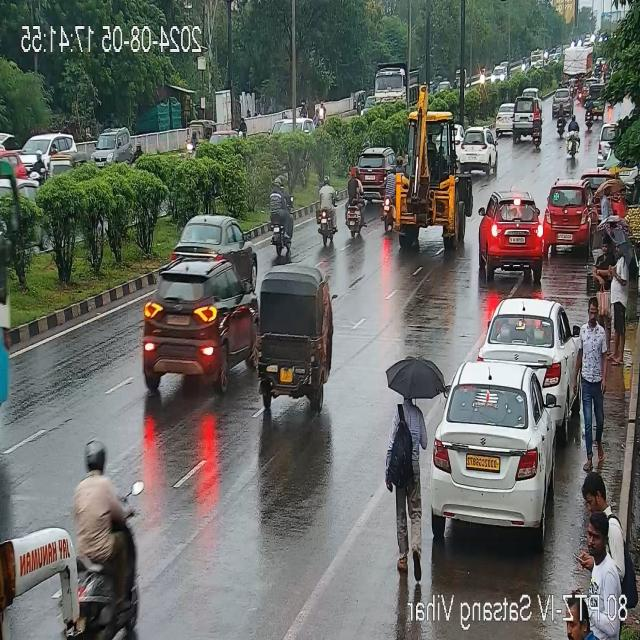2-wheelers: (74, 435, 142, 640), (312, 172, 360, 251), (262, 182, 298, 260), (382, 168, 397, 232), (568, 114, 580, 158), (32, 148, 46, 178), (532, 108, 542, 146), (586, 97, 594, 131), (238, 115, 248, 142), (131, 142, 143, 164), (558, 104, 566, 136), (187, 130, 198, 150), (356, 90, 363, 120), (313, 108, 321, 130), (578, 78, 584, 104), (319, 102, 326, 121), (300, 100, 308, 116), (597, 60, 603, 78), (570, 76, 574, 98), (522, 56, 526, 74), (452, 78, 458, 90)
auto: (252, 264, 336, 409), (188, 118, 218, 148)
bus: (0, 517, 106, 640)
car: (423, 360, 561, 534), (140, 264, 254, 392), (484, 297, 576, 397), (146, 220, 262, 298), (482, 194, 544, 278), (547, 179, 595, 247), (21, 132, 76, 190), (454, 128, 496, 174), (357, 148, 395, 196), (92, 125, 132, 163), (596, 124, 628, 168), (511, 98, 538, 138), (274, 117, 315, 139), (547, 85, 571, 118), (496, 100, 516, 134), (590, 86, 606, 116), (490, 66, 508, 86)
pedestrian: (394, 392, 436, 580), (578, 298, 608, 456), (610, 236, 632, 360), (580, 514, 612, 588), (577, 472, 627, 516), (592, 235, 610, 292), (603, 184, 613, 225), (618, 188, 628, 214)
truck: (395, 101, 463, 247), (376, 62, 420, 106), (562, 46, 594, 76)
